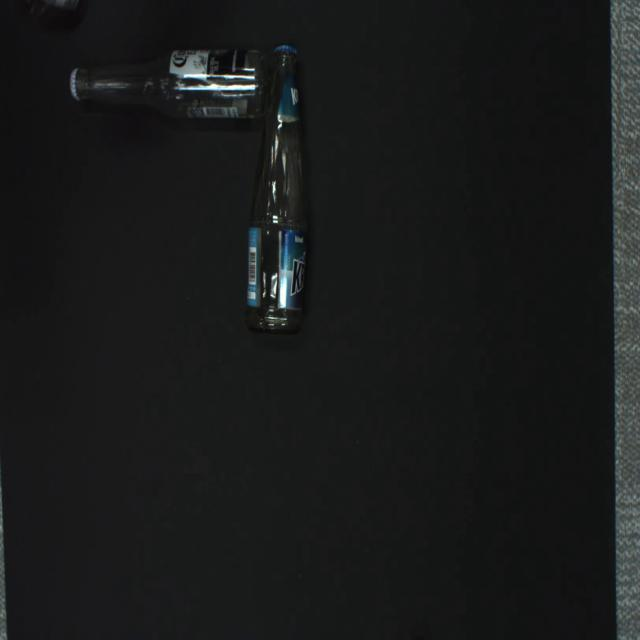beer-bottle: (243, 45, 307, 335), (69, 50, 269, 119)
